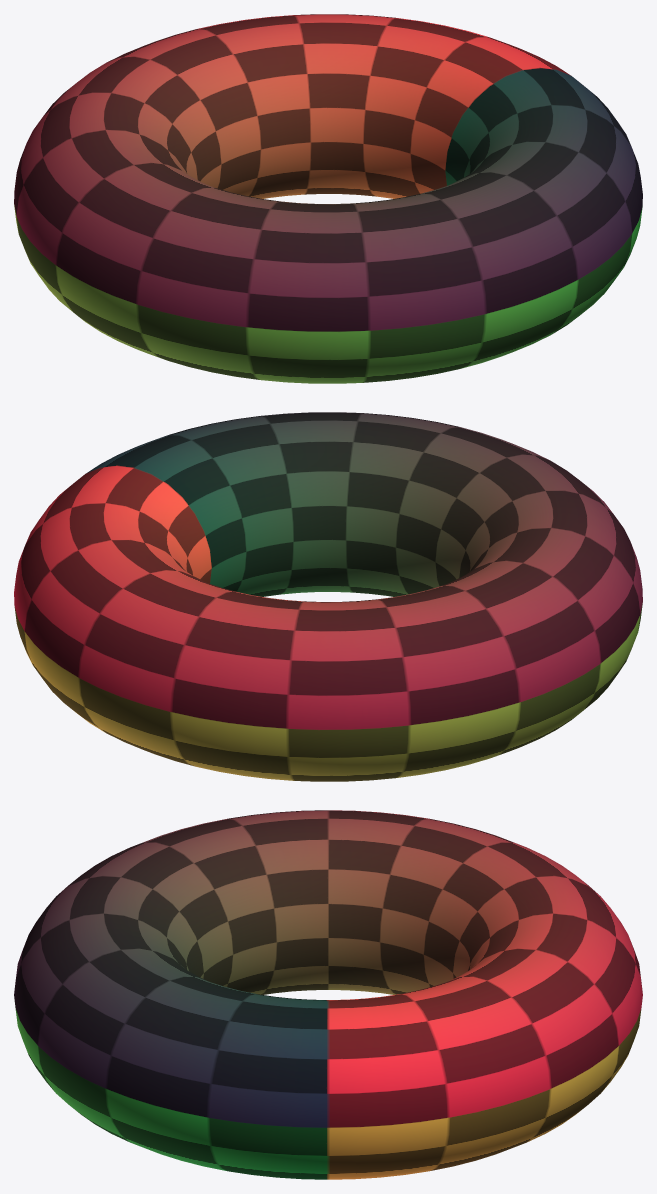
3 renders of one model, top to bottom at view 1: azimuth 30°, elevation 25°; view 2: azimuth 150°, elevation 25°; view 3: azimuth 270°, elevation 25°, orthographic.
Parts seen in each view (by area): view 1: donut; view 2: donut; view 3: donut.
Boxes of the visible parts, box(x1,y1,x2,y2) form: donut: box(14, 14, 642, 383); donut: box(14, 412, 642, 781); donut: box(14, 810, 642, 1179).
Size of the model in its own units: 2.8 by 0.8 by 2.8.
Materials: 1 (1 with a texture image).
